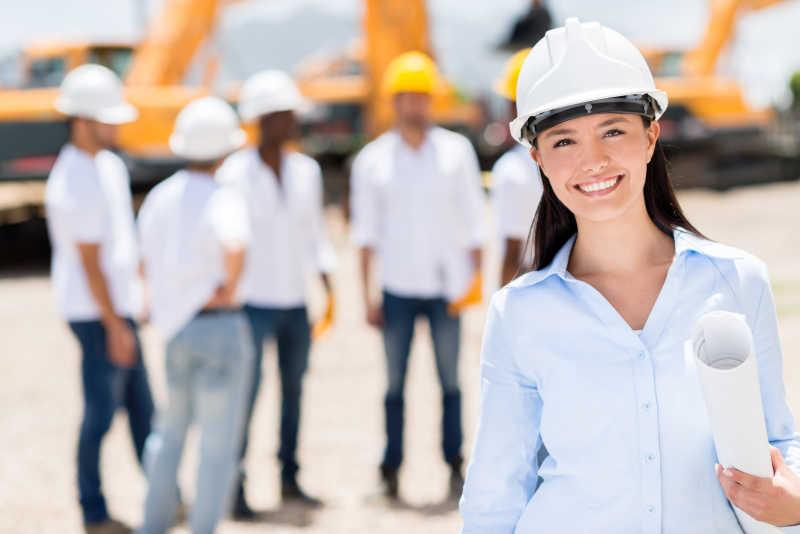helmet: (512, 22, 669, 143), (168, 96, 249, 163), (57, 63, 139, 126), (383, 51, 448, 111), (240, 71, 303, 120)
